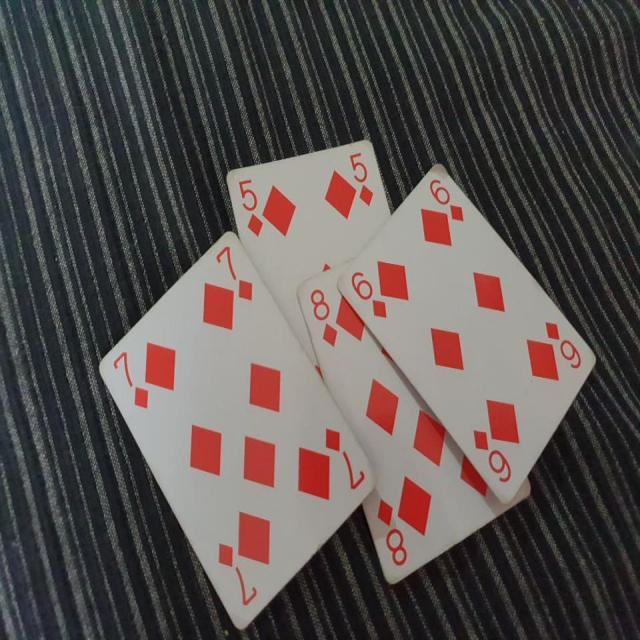5 Diamonds: (222, 140, 395, 380)
6 Diamonds: (334, 162, 599, 506)
7 Diamonds: (98, 231, 378, 628)
8 Diamonds: (296, 258, 533, 588)
